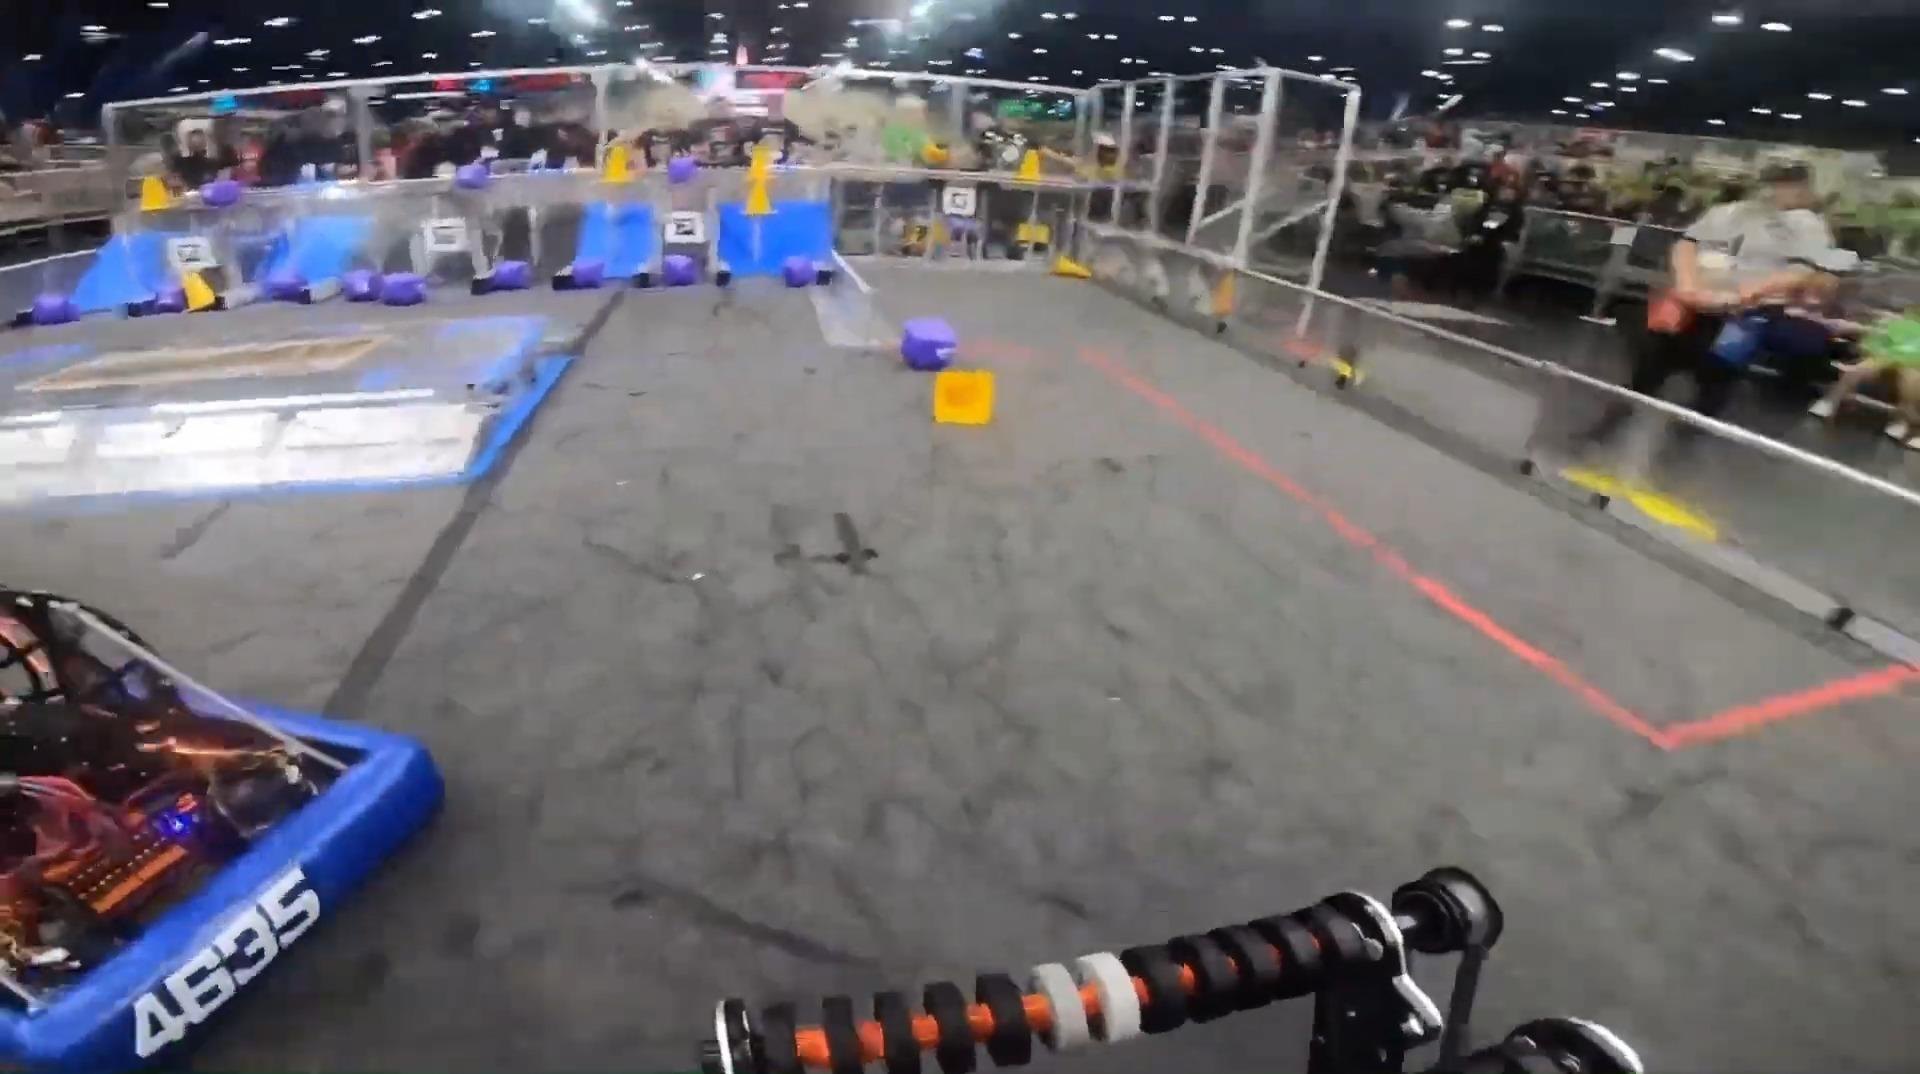robot: (0, 592, 444, 1074)
